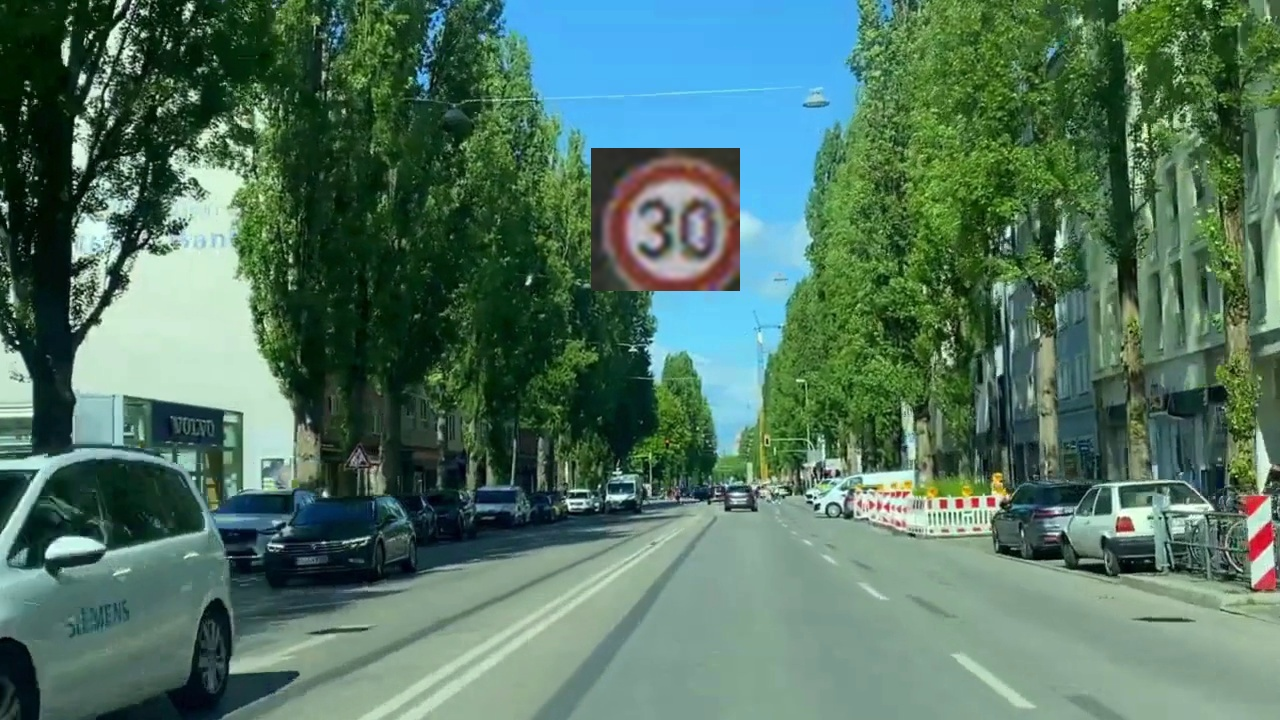Speed 30: (591, 148, 740, 291)
